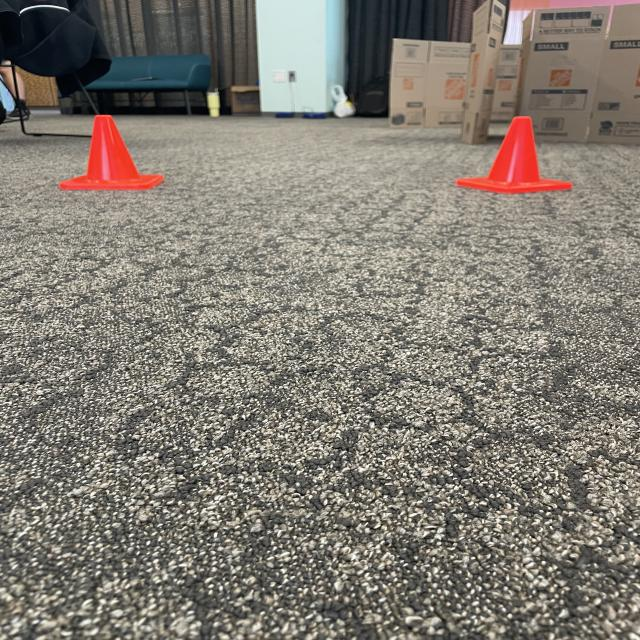Traffic Cone: (444, 111, 588, 205), (55, 110, 170, 202)
